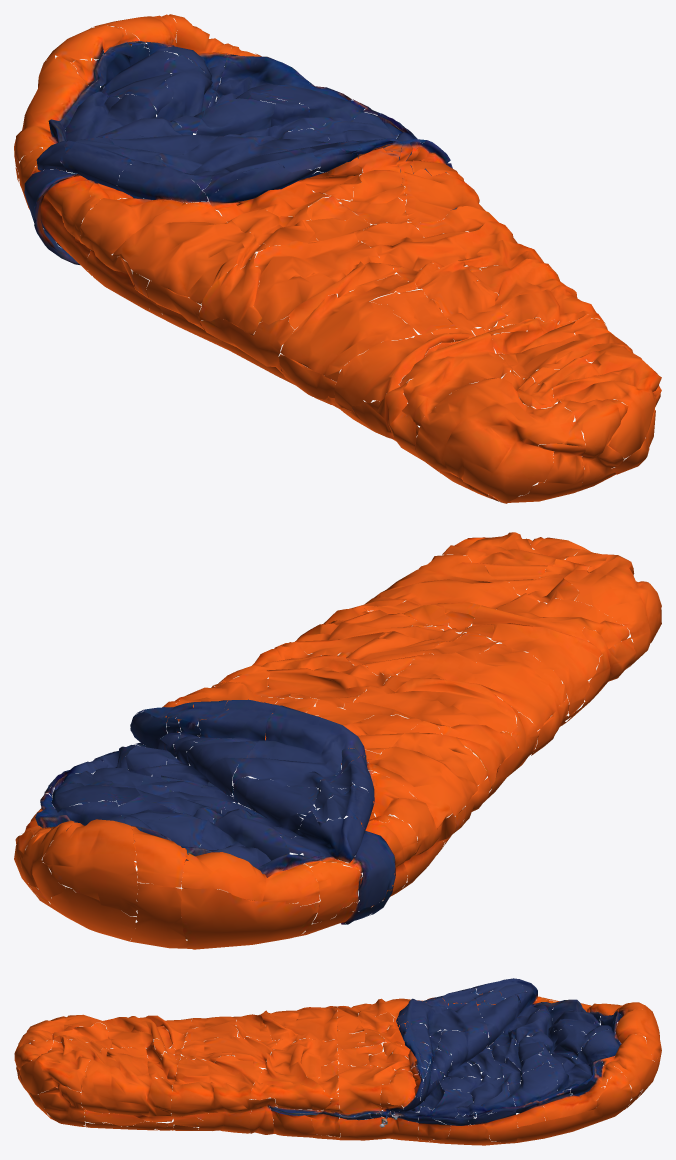
Rendered from sleepbag_prop.glb.
The picture shows the model from 3 angles, top to bottom: view 1: azimuth 30°, elevation 25°; view 2: azimuth 150°, elevation 25°; view 3: azimuth 270°, elevation 25°; orthographic projection. The views are drawn at different scales.
Parts seen in each view (by area): view 1: prop_sleepbag; view 2: prop_sleepbag; view 3: prop_sleepbag.
Boxes of the visible parts, x1,y1,x2,y2 form: prop_sleepbag: (14, 14, 661, 503); prop_sleepbag: (14, 532, 661, 949); prop_sleepbag: (14, 978, 661, 1145).
Size of the model in its own units: 0.4102 by 0.1528 by 0.9807.
1 material, 1 textured.
